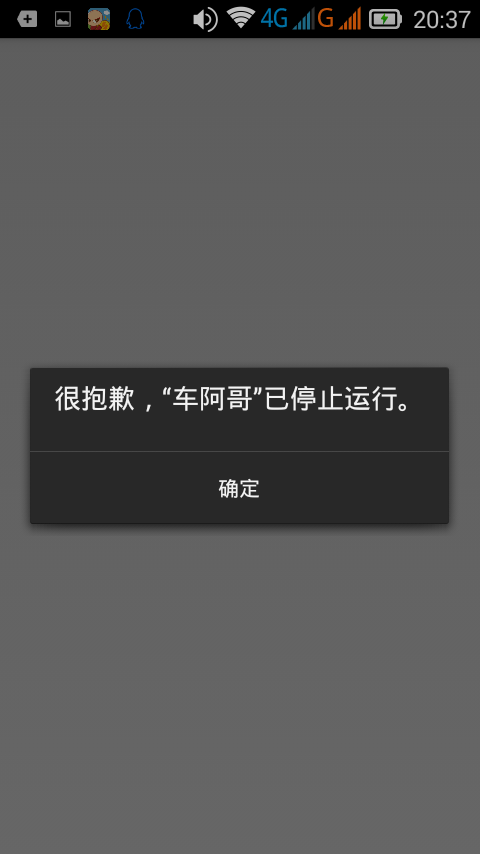alert: (27, 365, 455, 531)
button: (29, 444, 450, 527)
textview: (42, 379, 416, 422)
